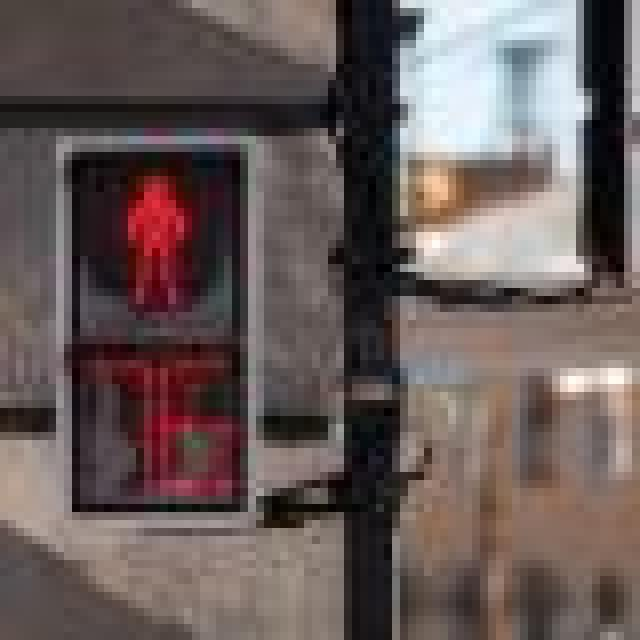redlight: (49, 155, 280, 524)
